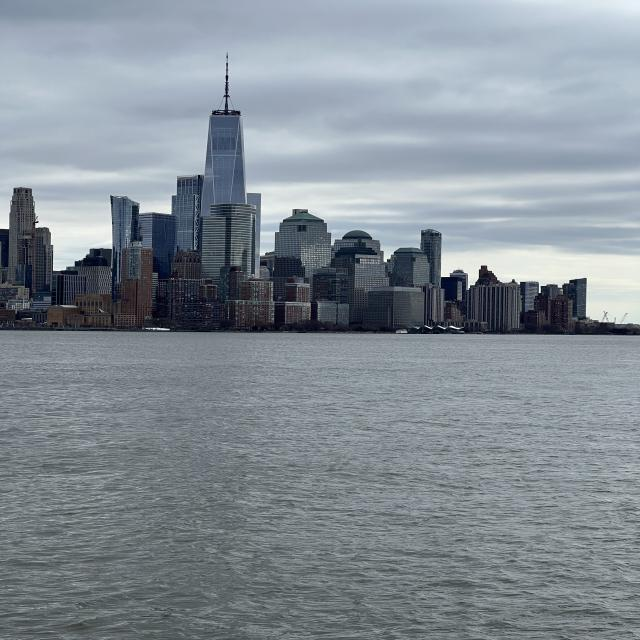WTC: (202, 53, 248, 208)
